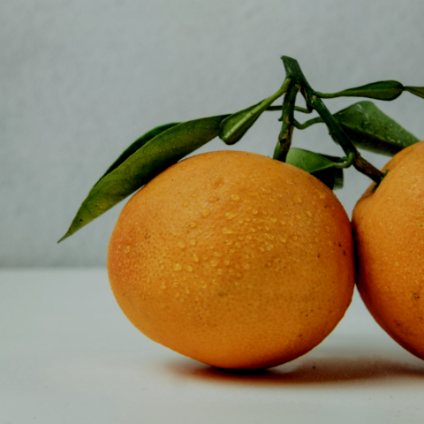orange: (82, 126, 382, 385)
